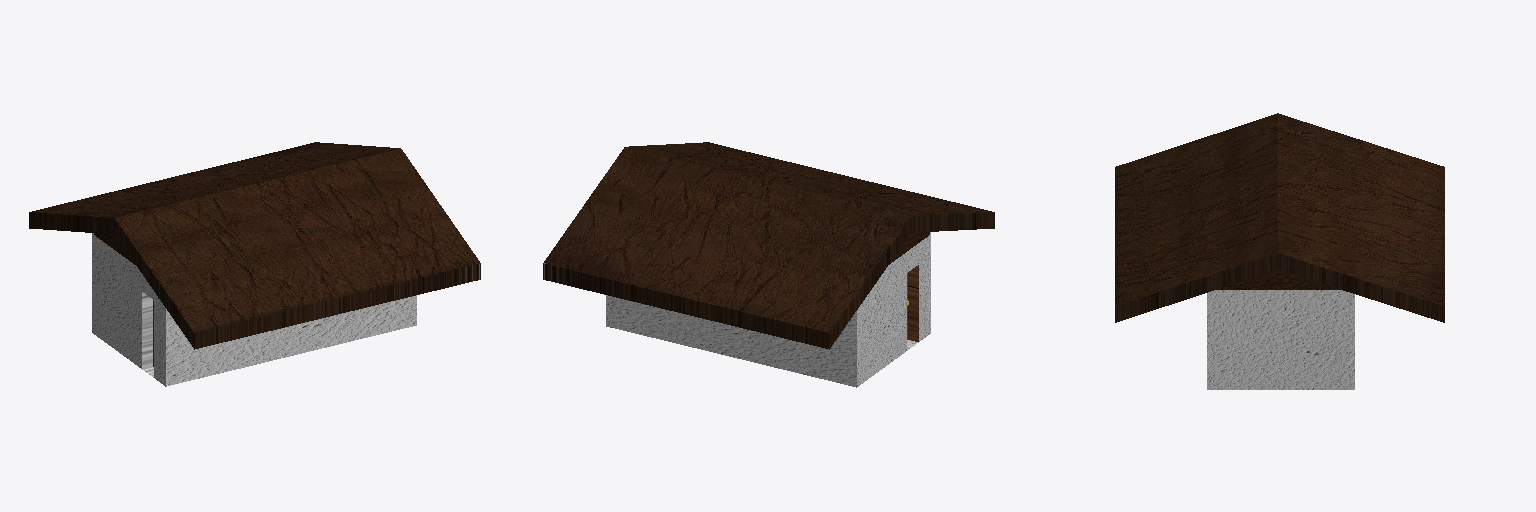
3 renders of one model, left to right at view 1: azimuth 30°, elevation 25°; view 2: azimuth 150°, elevation 25°; view 3: azimuth 270°, elevation 25°, orthographic.
Visible parts, largest first — view 1: Plano, Cube; view 2: Plano, Cube; view 3: Plano, Cube, Cube.001.
Part boxes in pixels (x1,y1,x2,y2): Plano: (29,142,480,349); Cube: (92,233,416,386); Plano: (543,142,994,349); Cube: (606,232,930,387); Plano: (1115,113,1444,322); Cube: (1207,290,1354,389); Cube.001: (1217,270,1339,289).
Size of the model in its own units: 4.83 by 2.35 by 4.79.
Materials: 4 (4 with a texture image).